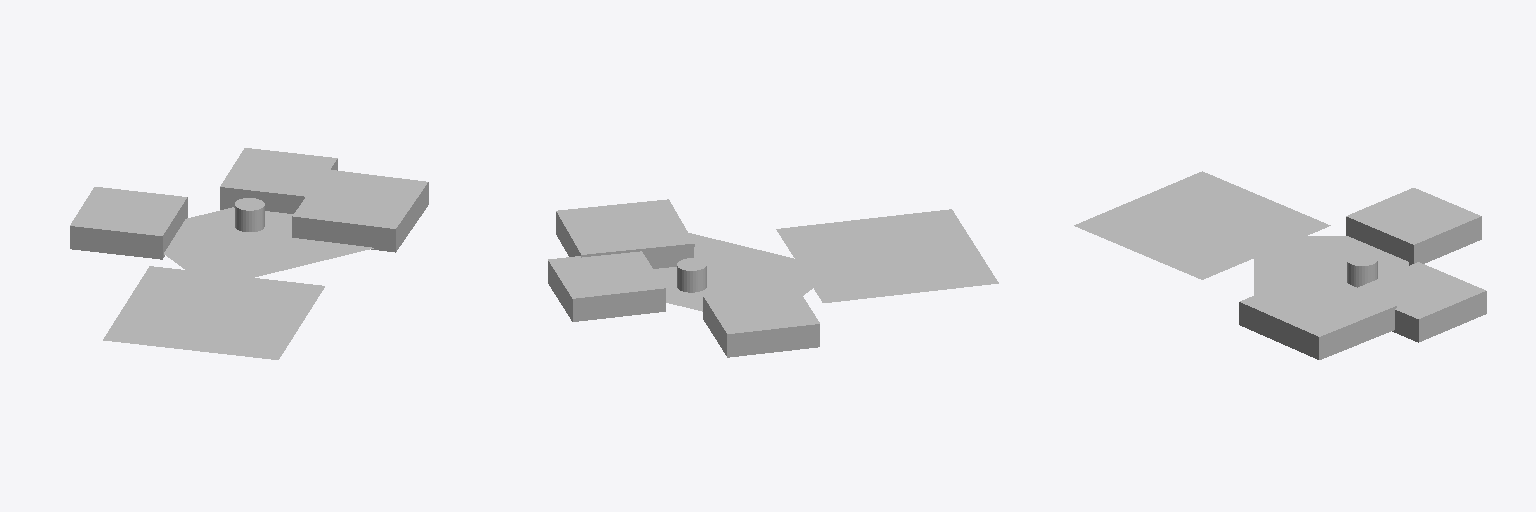
Rendered from pacman_Scene.obj.
3 views of the same model, side by side, from view 1: azimuth 30°, elevation 25°; view 2: azimuth 150°, elevation 25°; view 3: azimuth 270°, elevation 25° (orthographic).
Visible parts, largest first — view 1: Cube.003_Cube.005, Cube_Cube.001, Plane, Cube.002_Cube.004, Cube.001_Cube.003, Cylinder; view 2: Cube.003_Cube.005, Cube_Cube.001, Cube.002_Cube.004, Cube.001_Cube.003, Plane, Cylinder; view 3: Cube.003_Cube.005, Cube_Cube.001, Cube.002_Cube.004, Cube.001_Cube.003, Plane, Cylinder.
Boxes of the visible parts, <box> form: Cube.003_Cube.005: <box>103,266,324,359</box>; Cube_Cube.001: <box>292,169,428,252</box>; Plane: <box>164,207,373,287</box>; Cube.002_Cube.004: <box>70,187,187,259</box>; Cube.001_Cube.003: <box>220,148,337,213</box>; Cylinder: <box>235,198,264,231</box>; Cube.003_Cube.005: <box>776,209,998,302</box>; Cube_Cube.001: <box>556,199,694,268</box>; Cube.002_Cube.004: <box>703,285,819,357</box>; Cube.001_Cube.003: <box>548,251,665,321</box>; Plane: <box>654,233,838,311</box>; Cylinder: <box>677,258,706,292</box>; Cube.003_Cube.005: <box>1074,171,1330,279</box>; Cube_Cube.001: <box>1239,270,1396,359</box>; Cube.002_Cube.004: <box>1346,188,1481,265</box>; Cube.001_Cube.003: <box>1358,262,1486,342</box>; Plane: <box>1254,236,1408,294</box>; Cylinder: <box>1347,254,1377,287</box>.
Size of the model in its own units: 34.45 by 2.24 by 32.05.